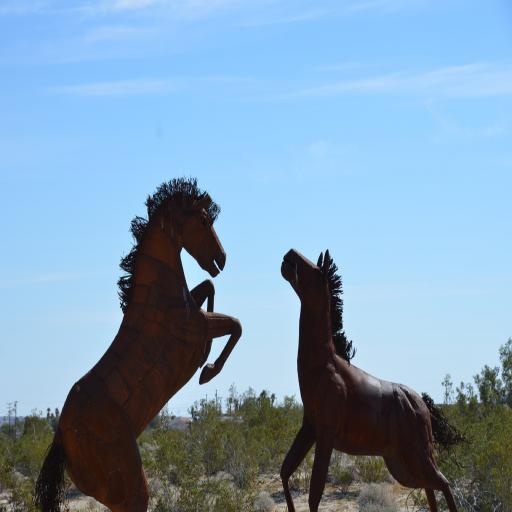horse: (34, 176, 242, 512), (277, 246, 470, 512)
